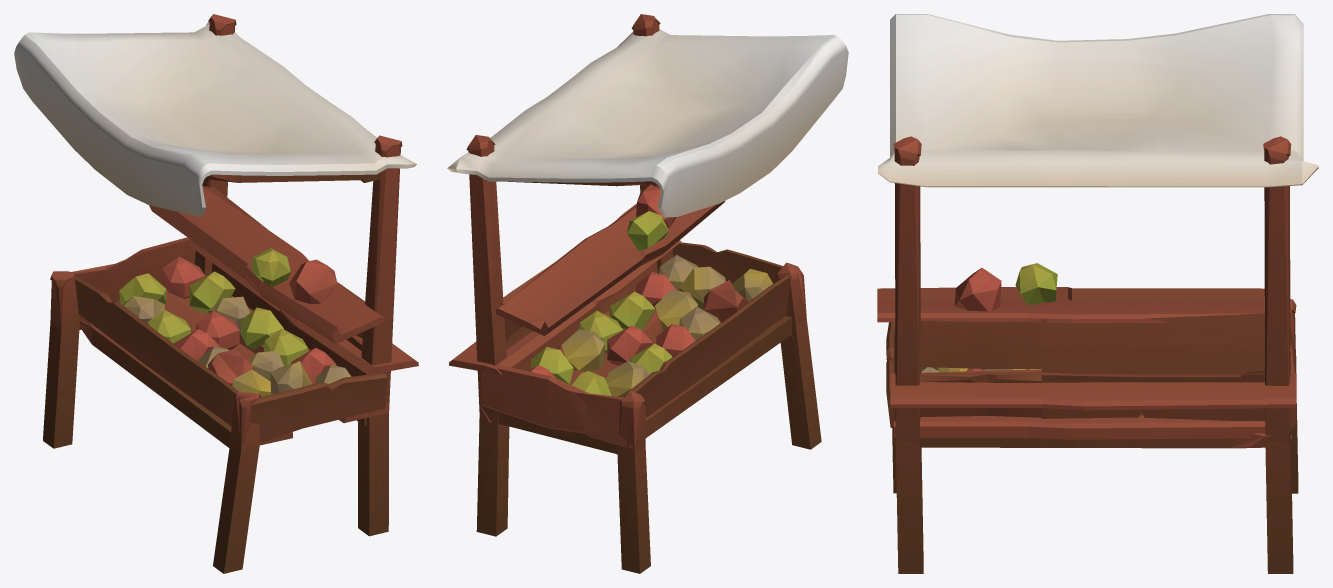
3 renders of one model, left to right at view 1: azimuth 30°, elevation 25°; view 2: azimuth 150°, elevation 25°; view 3: azimuth 270°, elevation 25°, orthographic. The views are drawn at different scales.
Parts seen in each view (by area): view 1: MarketStandSmall; view 2: MarketStandSmall; view 3: MarketStandSmall.
Boxes of the visible parts, box(x1,y1,x2,y2) form: MarketStandSmall: box(14, 14, 418, 573); MarketStandSmall: box(447, 14, 848, 573); MarketStandSmall: box(877, 14, 1318, 573).
Size of the model in its own units: 1.89 by 3.35 by 2.91.
1 material, 1 textured.
